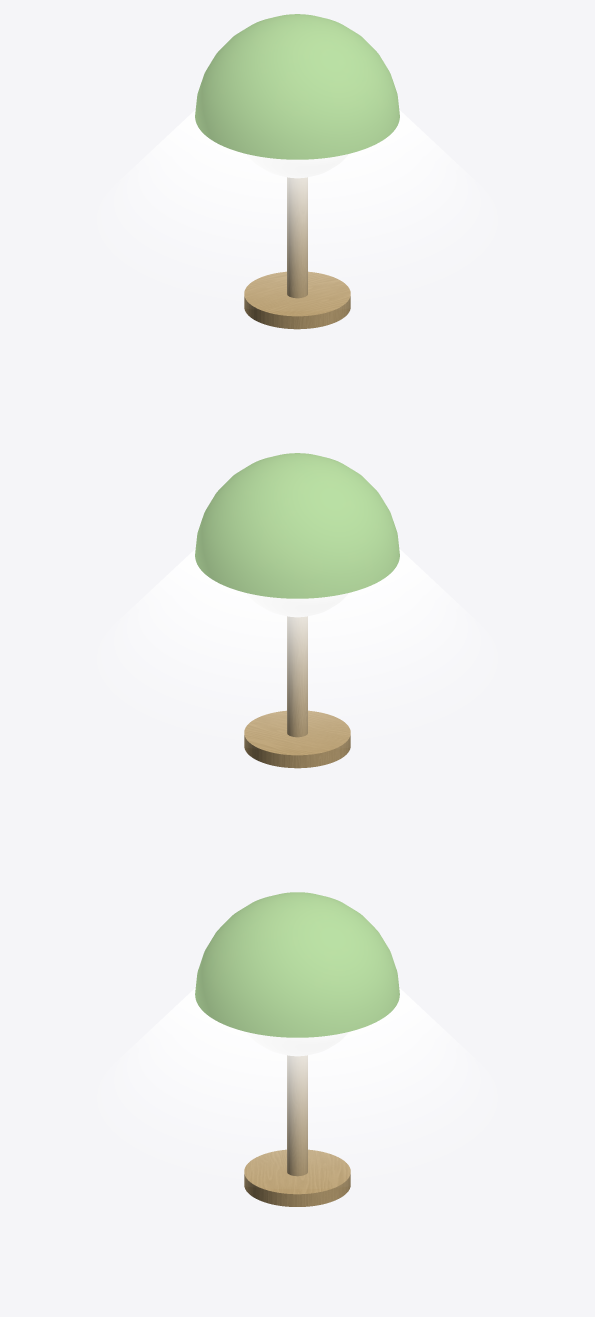
The model's file is GREEN_ON.glb.
3 views of the same model, one above another, from view 1: azimuth 30°, elevation 25°; view 2: azimuth 150°, elevation 25°; view 3: azimuth 270°, elevation 25° (orthographic).
Visible parts, largest first — view 1: LIGHT_DOWN.002, DOME, BASE2, DOME2; view 2: LIGHT_DOWN.002, DOME, BASE2, DOME2; view 3: LIGHT_DOWN.002, DOME, BASE2, DOME2.
Boxes of the visible parts, x1,y1,x2,y2 form: LIGHT_DOWN.002: (114, 110, 480, 279); DOME: (195, 14, 399, 159); BASE2: (244, 178, 350, 329); DOME2: (255, 162, 339, 177); LIGHT_DOWN.002: (114, 549, 480, 718); DOME: (195, 453, 399, 598); BASE2: (244, 617, 350, 768); DOME2: (255, 601, 339, 616); LIGHT_DOWN.002: (114, 988, 480, 1157); DOME: (195, 892, 399, 1037); BASE2: (244, 1056, 350, 1206); DOME2: (255, 1040, 339, 1055).
Bounding box in the file's own units: 0.7974 × 0.439 × 0.7974.
Materials: 5 (5 with a texture image).
